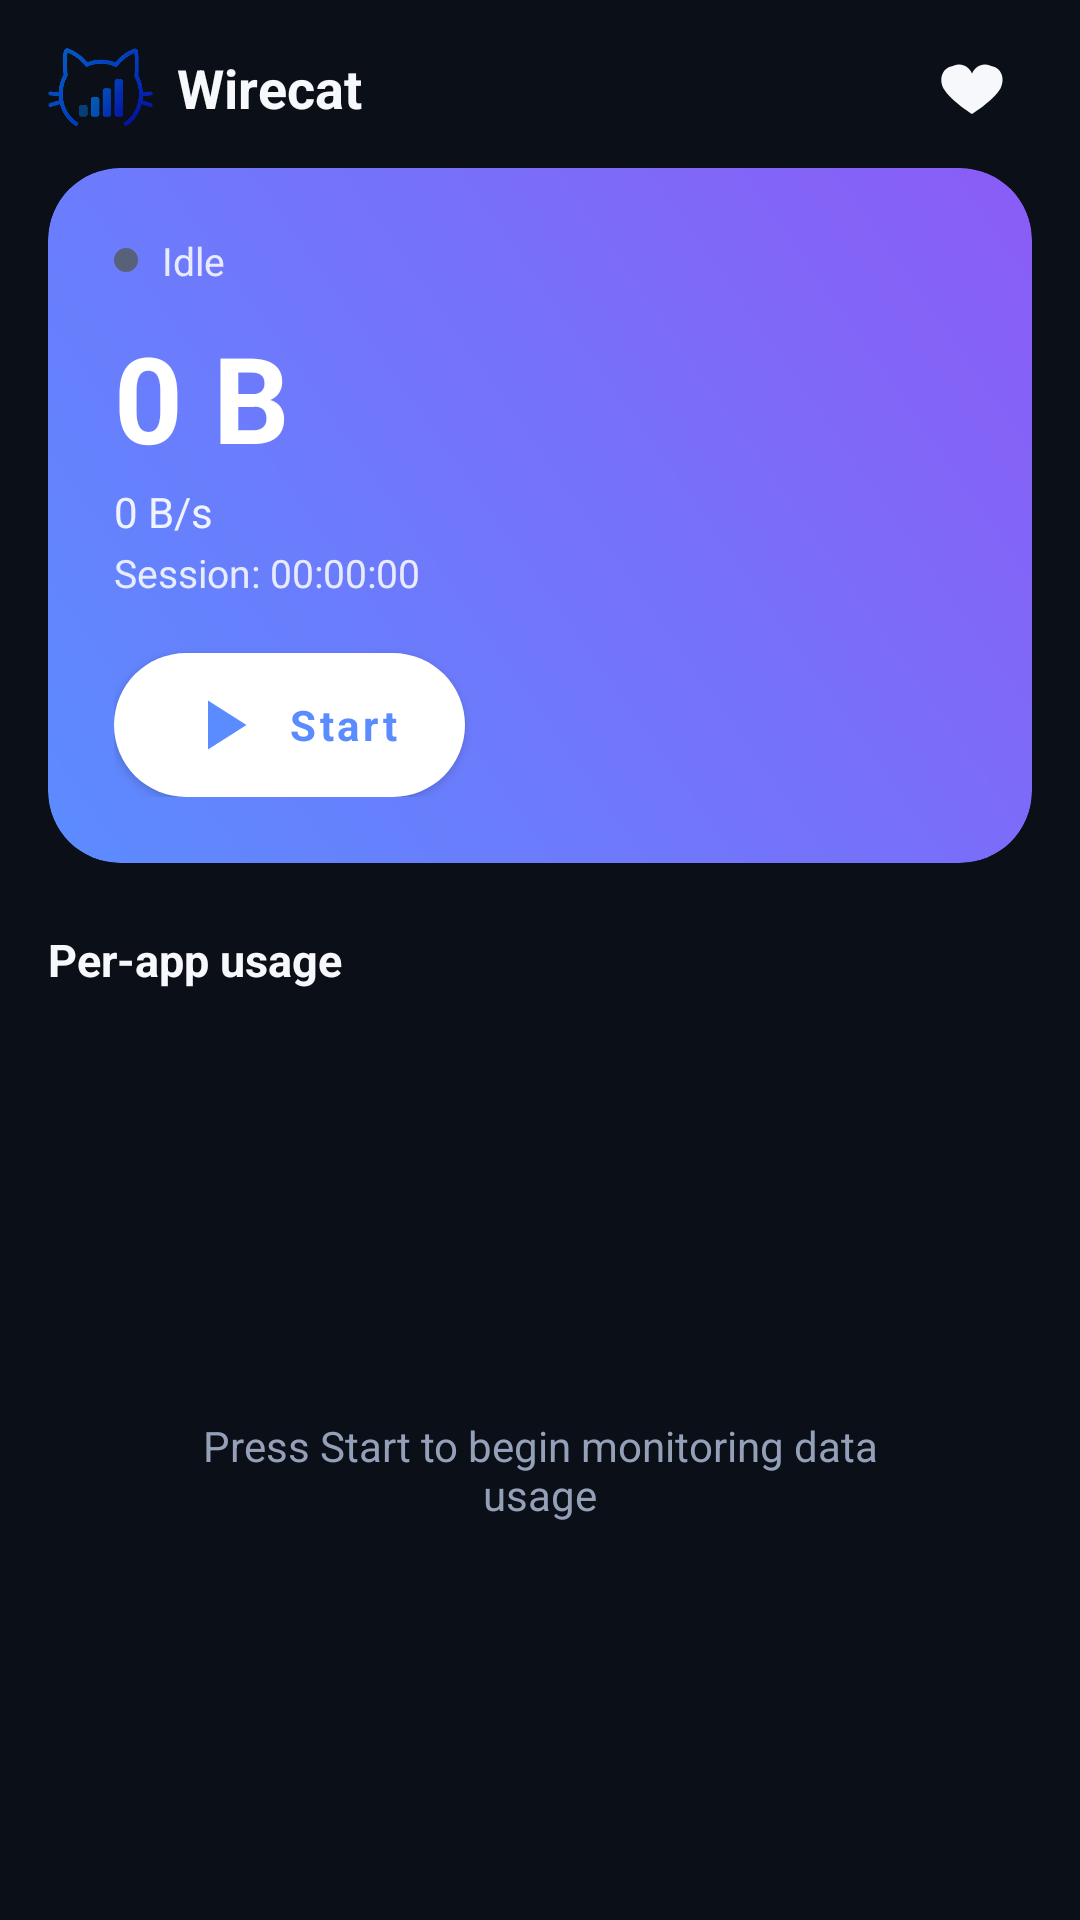

Named icons in this screenshot (1080 × 1920) and their centers, point (x, y):
Support the developer: point (972, 89)
